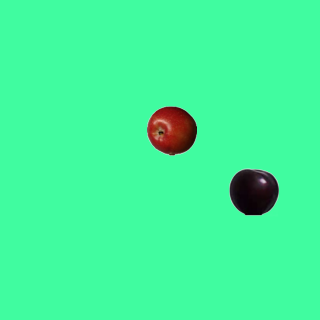Apple Braeburn: (146, 105, 196, 155)
Cherry Wax Black: (228, 166, 278, 216)
